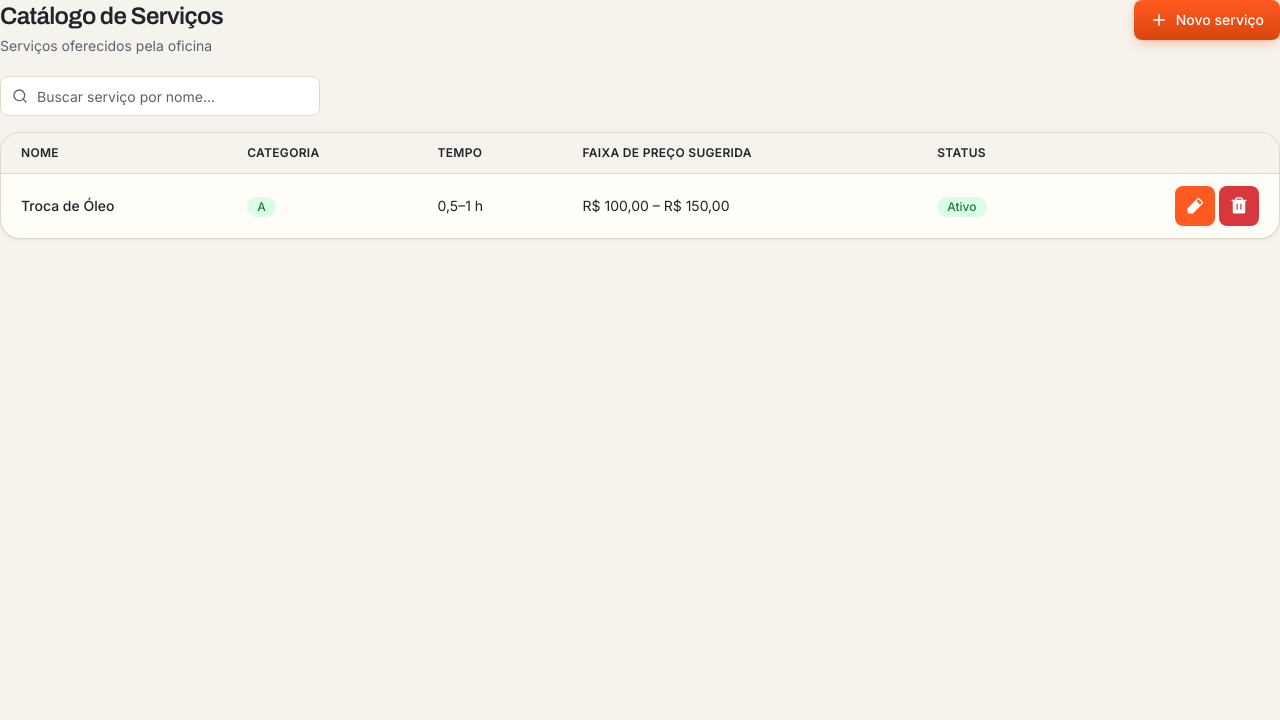
Scenario: ServicosPage › opens the create modal from "Novo serviço"
What coordinates should you click on to do the following:
click the button "Novo serviço"
I would click on:
 (1207, 20)
Its box is top-left (1134, 0), bottom-right (1279, 40).
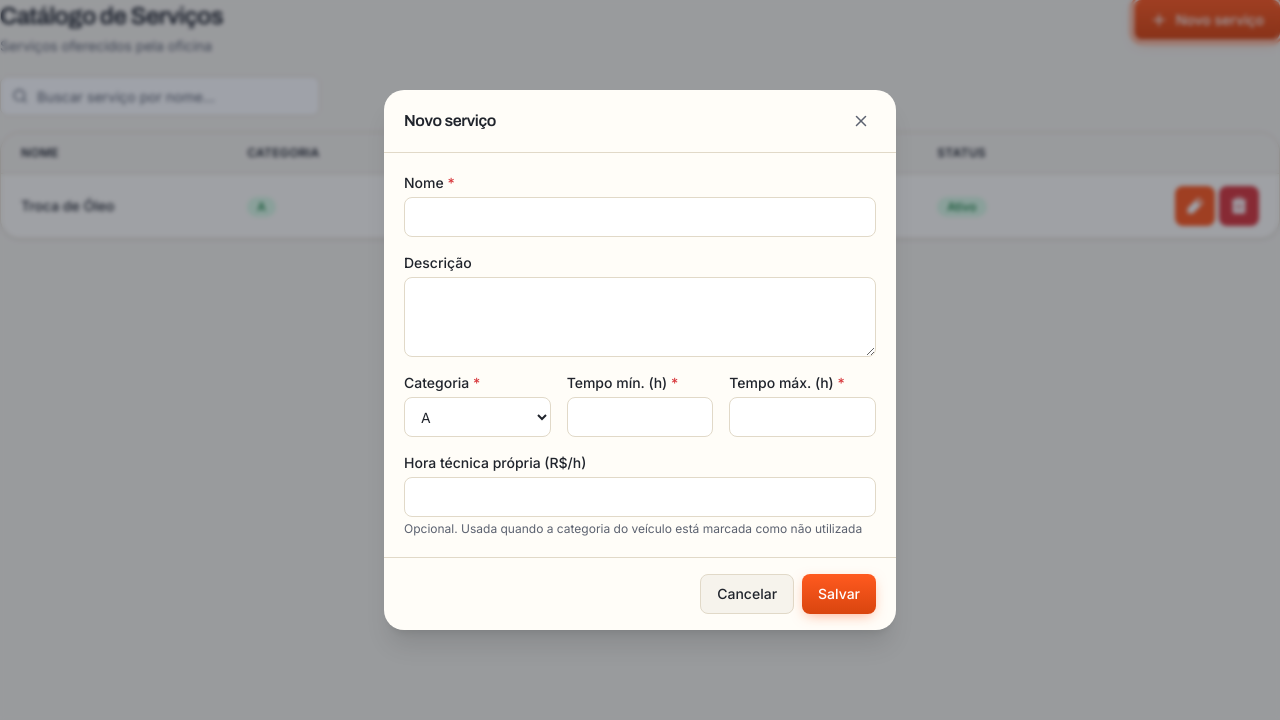
Now the heading "Novo serviço" is shown, box top-left (404, 109), bottom-right (496, 133)
